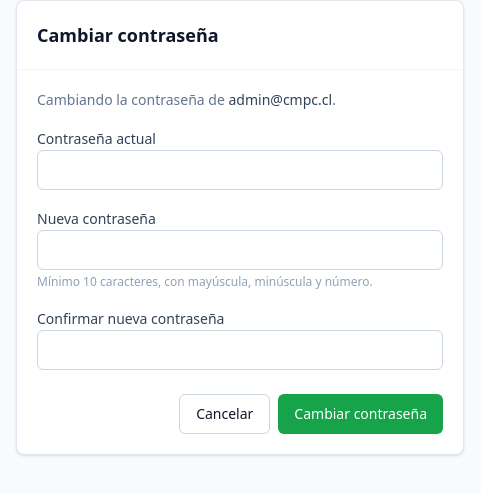
Scenario: ChangePasswordPage › valida que la confirmación coincida
Type "ClaveActual1" into the password field labelled "Contraseña actual" at point(240, 170), box left=37, top=150, right=443, bottom=190
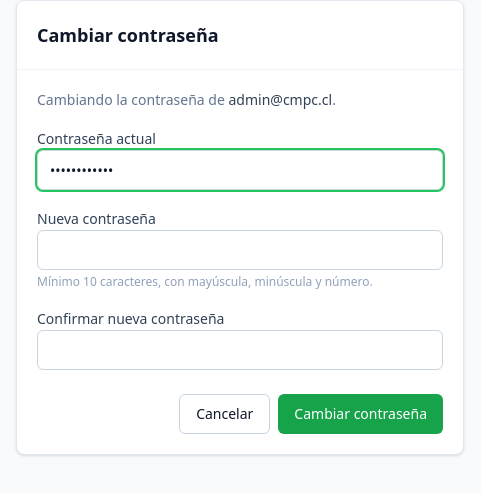
Type "NuevaClave123" into the password field labelled "Nueva contraseña" at point(240, 250), box left=37, top=230, right=443, bottom=270
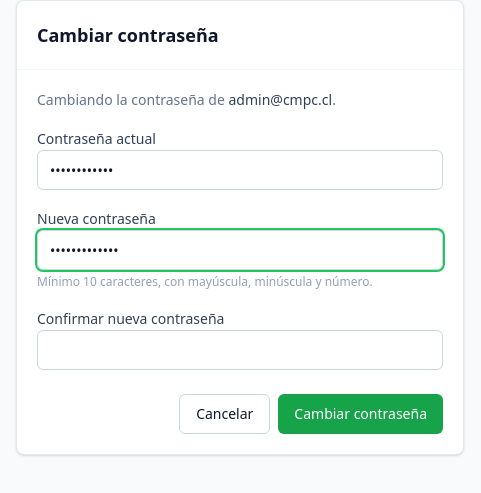
Type "NoCoincide123" into the password field labelled "Confirmar nueva contraseña" at point(240, 350), box left=37, top=330, right=443, bottom=370
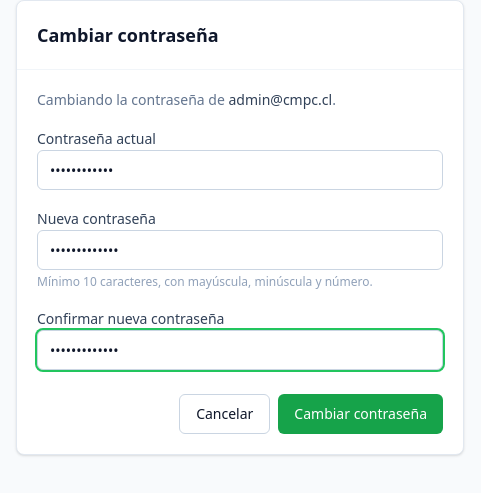
Click the button "Cambiar contraseña" at point(361, 414), box left=278, top=394, right=443, bottom=434
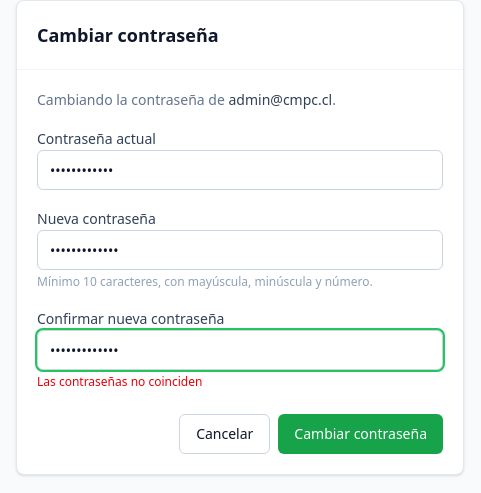
Result: the text "Las contraseñas no coinciden" is shown at left=37, top=373, right=202, bottom=390
